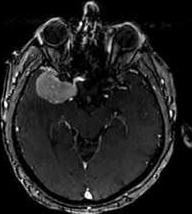Tumour-Meningioma: (28, 56, 97, 113)
